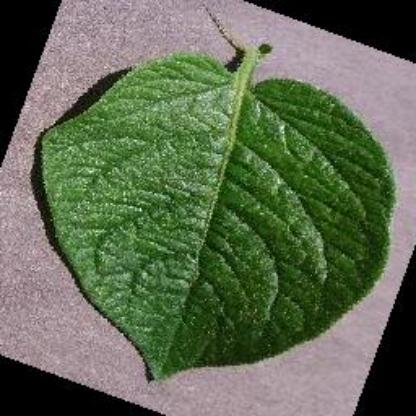Healthy-plant: (25, 24, 410, 399)
